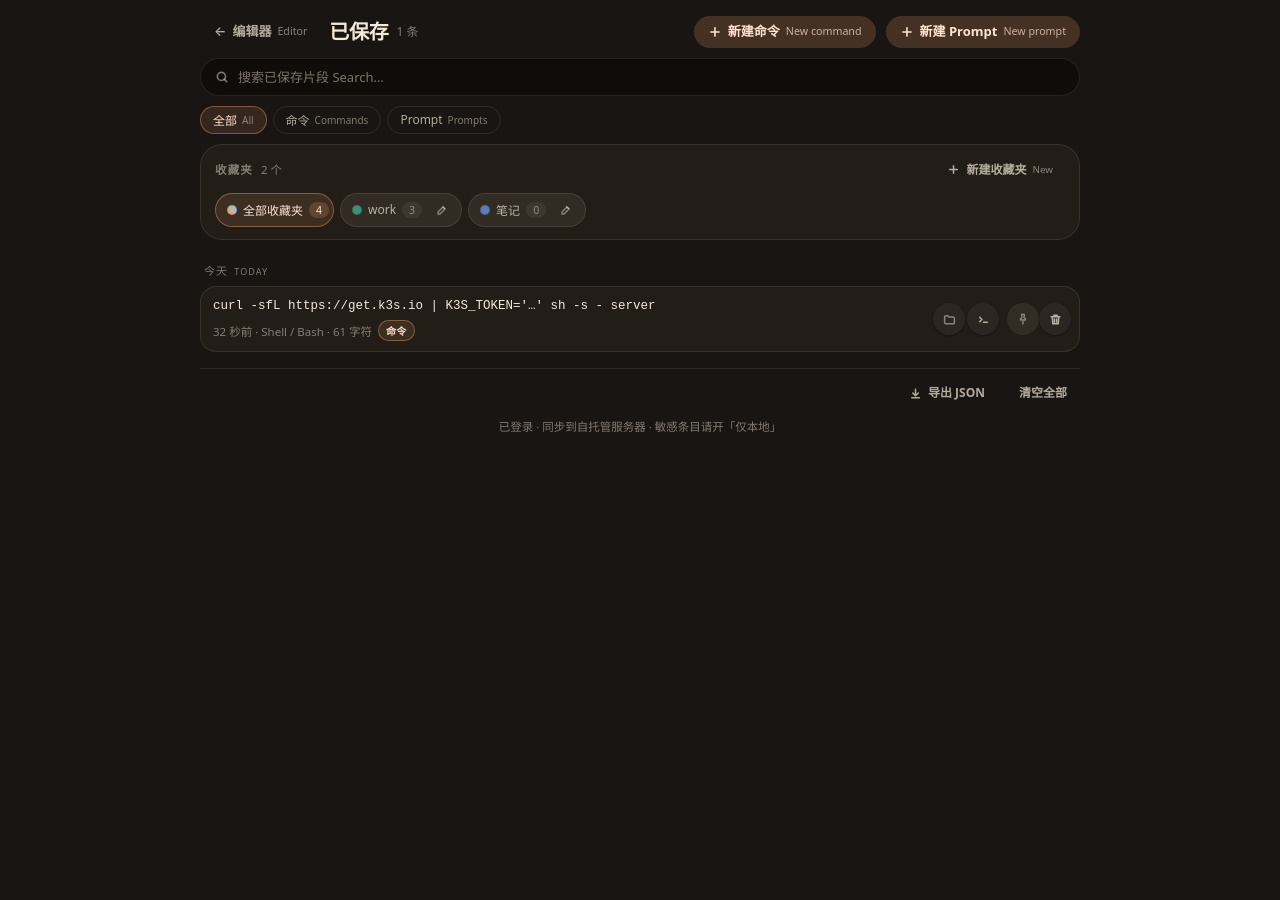
Test case: SavedPage（收藏夹管理，云端模式） › 删除空收藏夹时说明「还没有片段」
Click the button named "管理收藏夹「笔记」" at (566, 210), box [550,194,582,226]
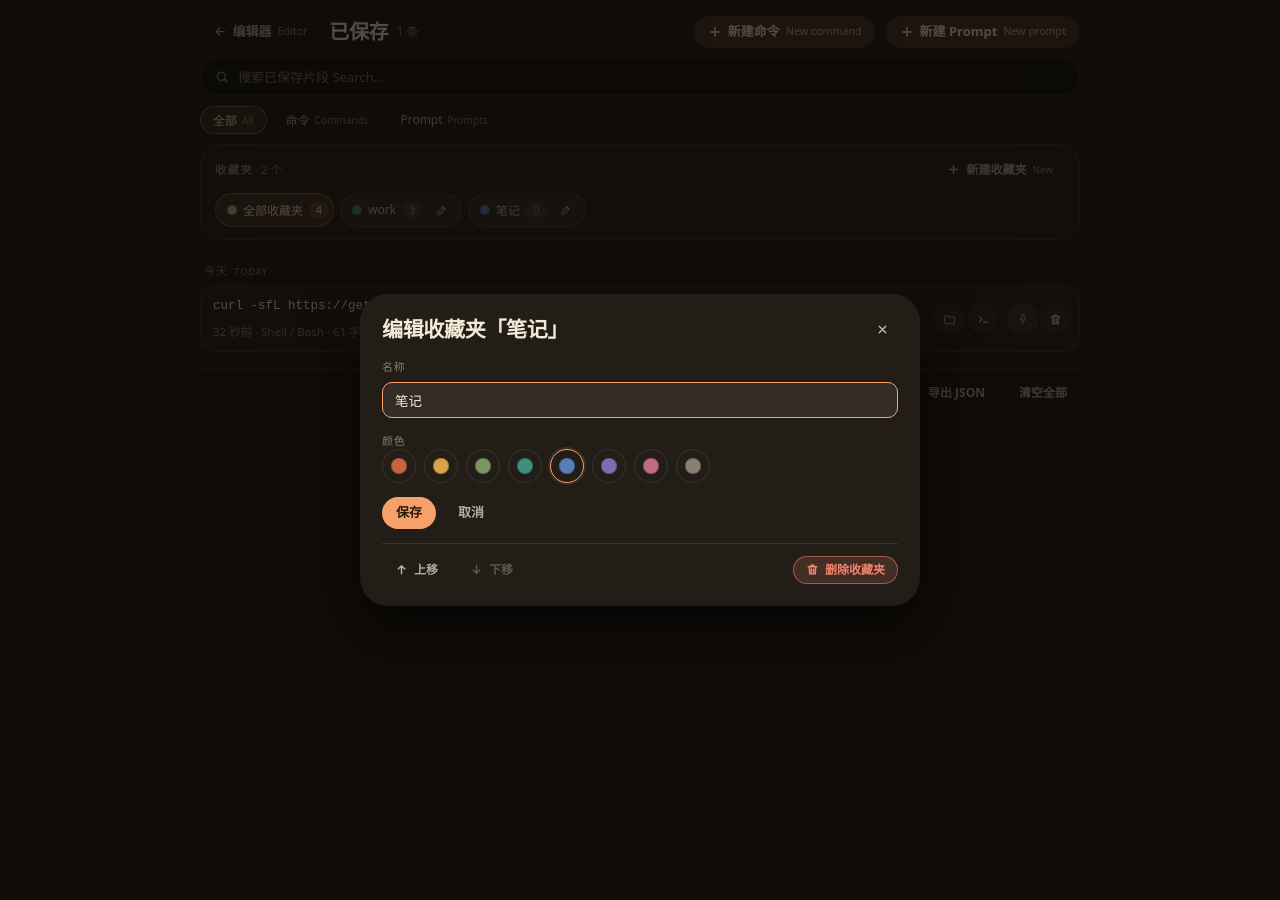
Click the button "删除收藏夹" at (846, 570), box [793,556,898,584]
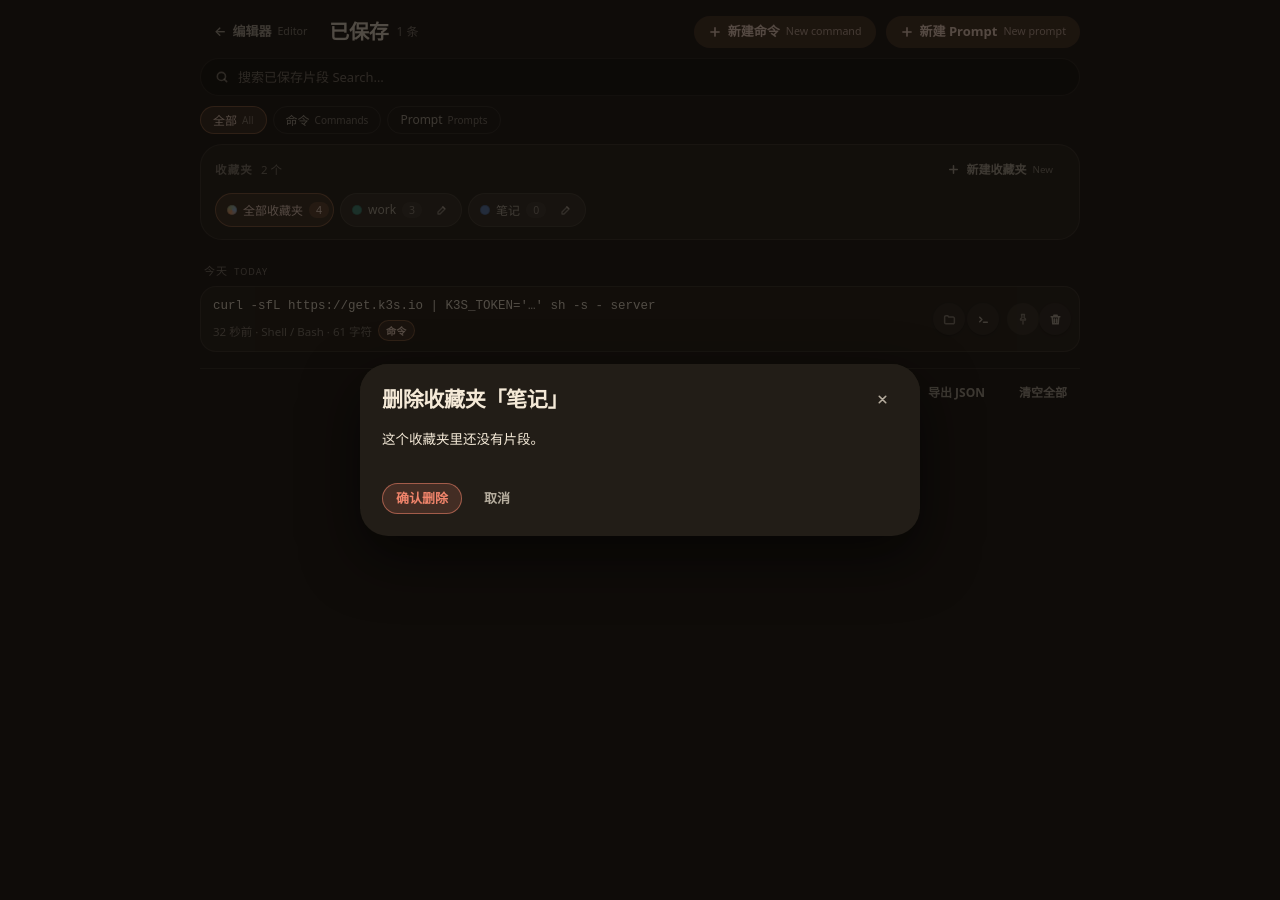
Expected: the dialog "删除收藏夹「笔记」" shows "这个收藏夹里还没有片段。", [382,430,544,448]
